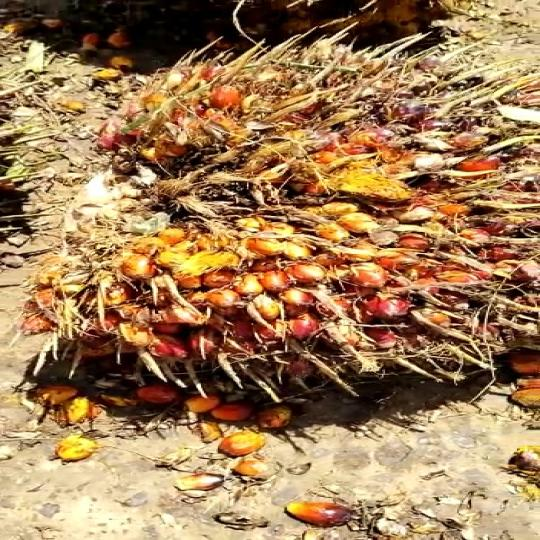masak: (47, 48, 540, 409)
